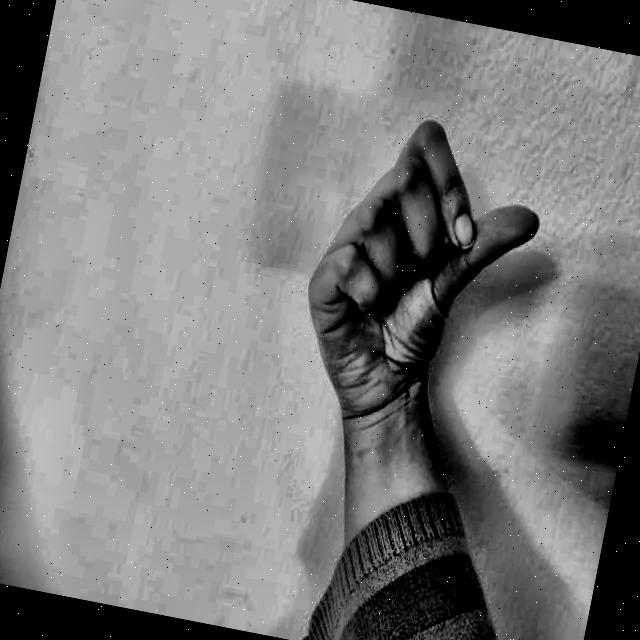Ay: (258, 55, 586, 472)
